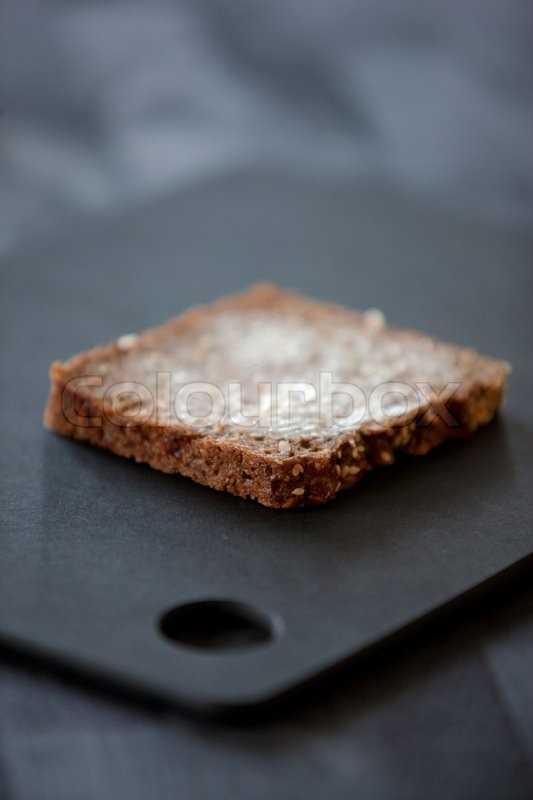slice of bread: (39, 288, 511, 511)
